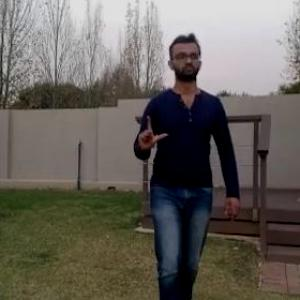land_hand: (135, 110, 170, 154)
